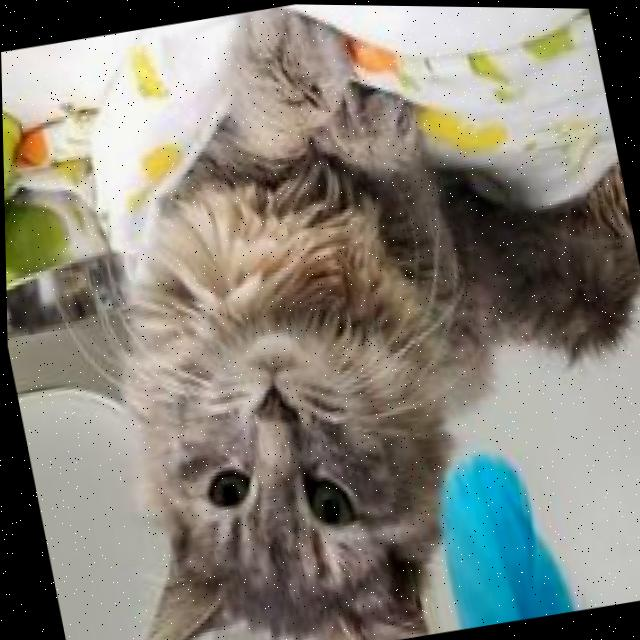Maine Coon: (8, 0, 640, 640)
